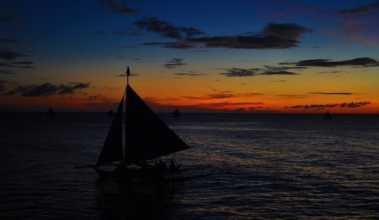fanchuan: (98, 67, 182, 181)
